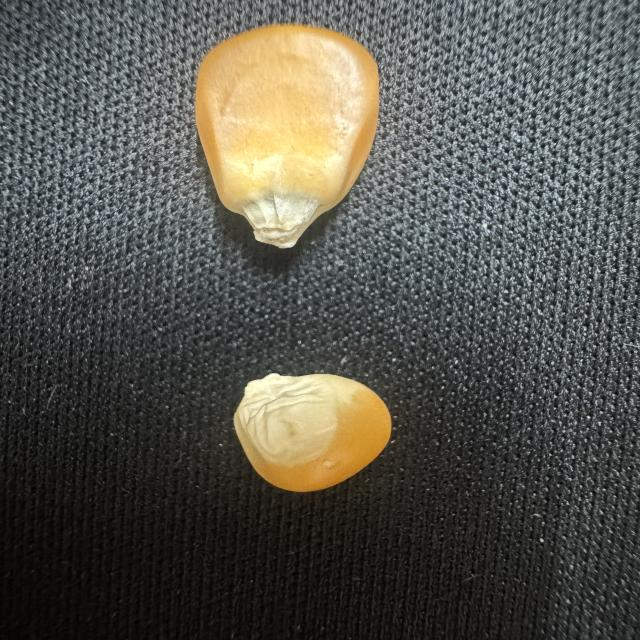Bad-Seed: (220, 364, 408, 502)
Good-Seed: (172, 16, 400, 257)
